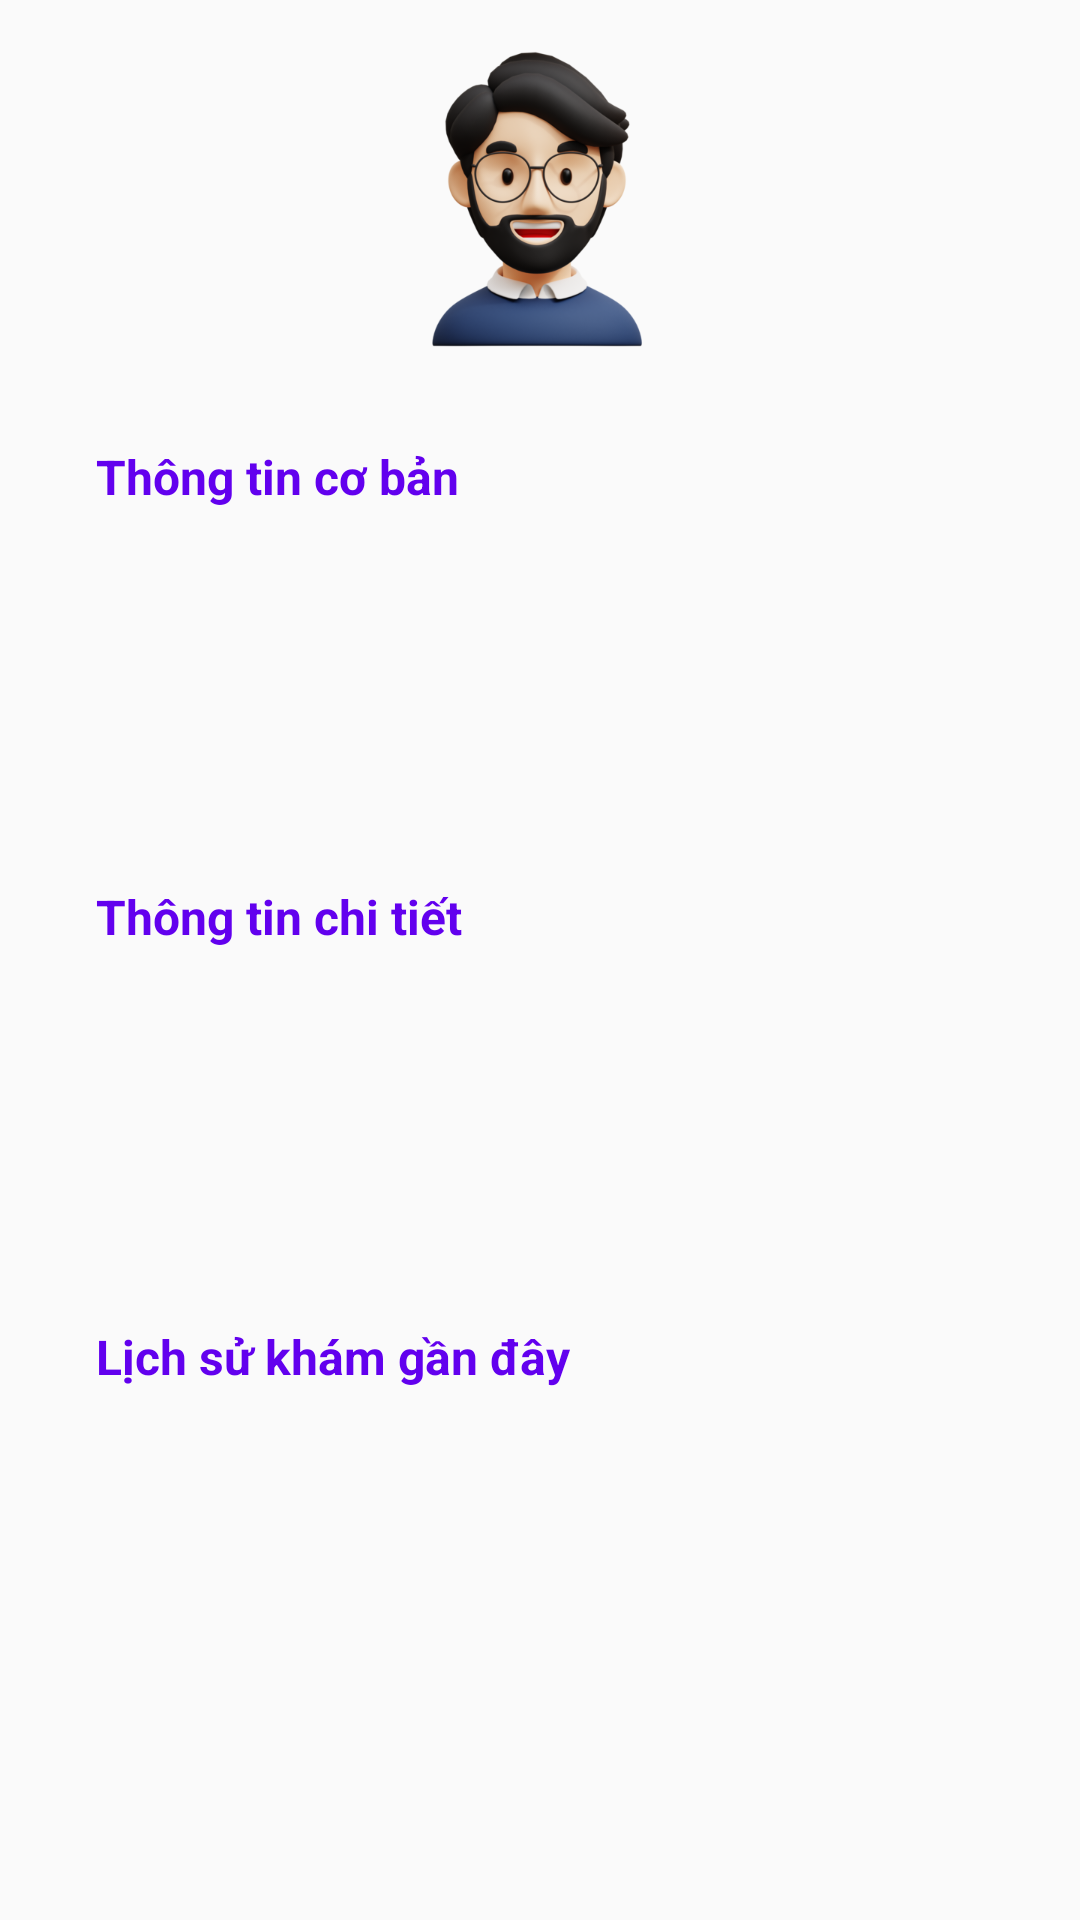

Named icons in this screenshot (1080 × 1920) and their centers, [x,y]:
avt: [537,199]
